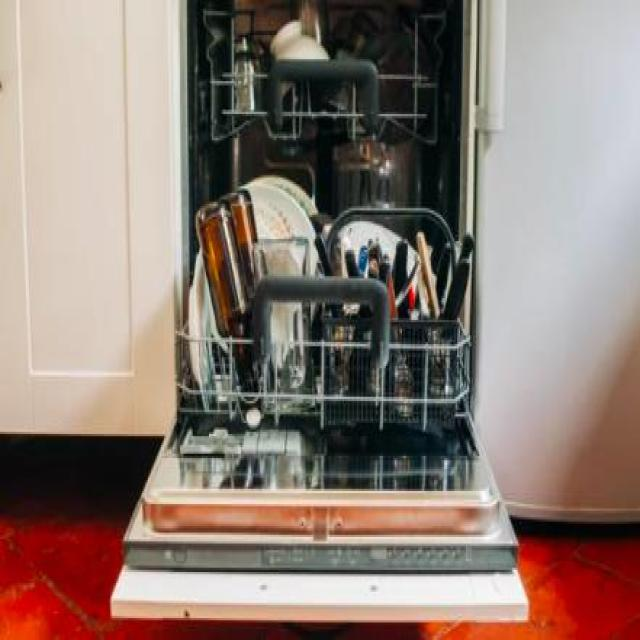dishwasher: (109, 0, 531, 625)
